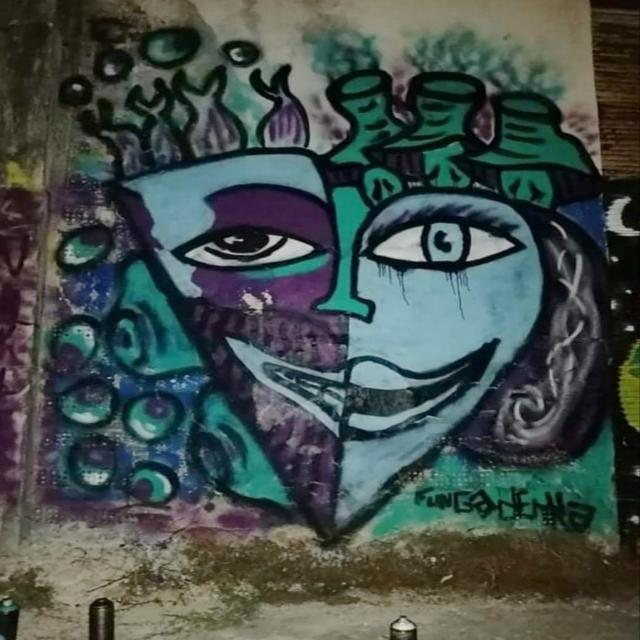nonspitting: (39, 27, 622, 546), (415, 485, 598, 534)
